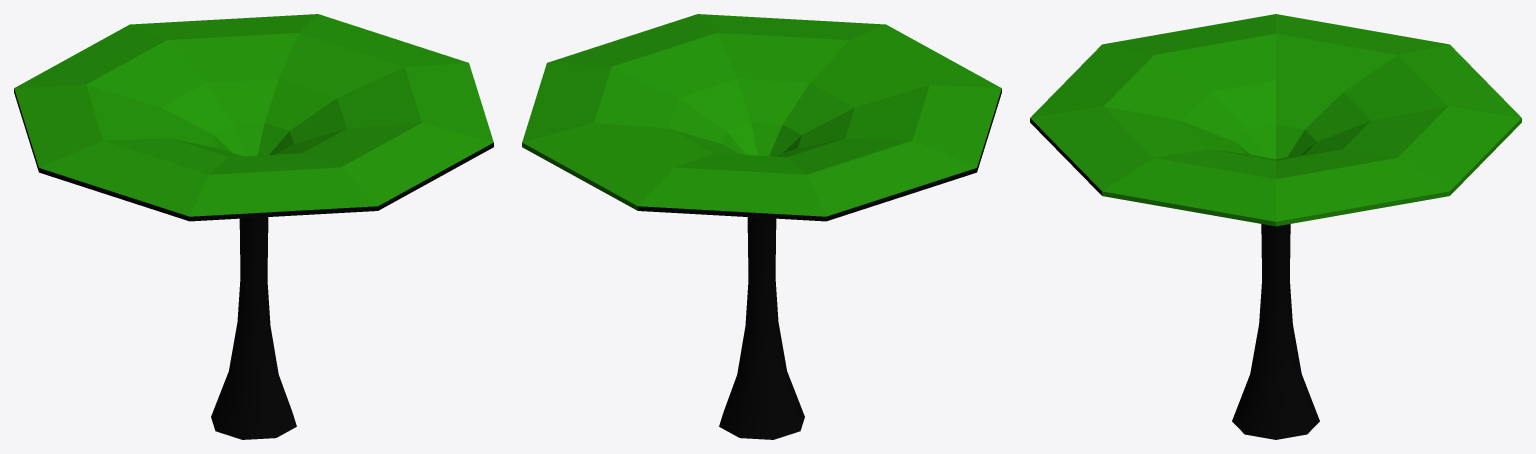
Rendered from Mushroom03_BH.fbx.
3 views of the same model, side by side, from view 1: azimuth 30°, elevation 25°; view 2: azimuth 150°, elevation 25°; view 3: azimuth 270°, elevation 25° (orthographic).
Visible parts, largest first — view 1: Mushroom03_BH; view 2: Mushroom03_BH; view 3: Mushroom03_BH.
Boxes of the visible parts, bbox=[...] form: Mushroom03_BH: bbox=[14, 14, 493, 439]; Mushroom03_BH: bbox=[522, 14, 1001, 439]; Mushroom03_BH: bbox=[1030, 14, 1521, 439].
Bounding box in the file's own units: 44.17 × 31.21 × 44.17.
